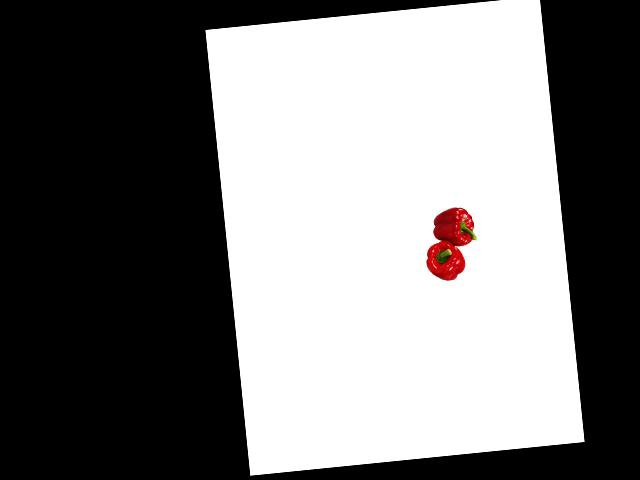bell_pepper: (428, 204, 478, 250)
